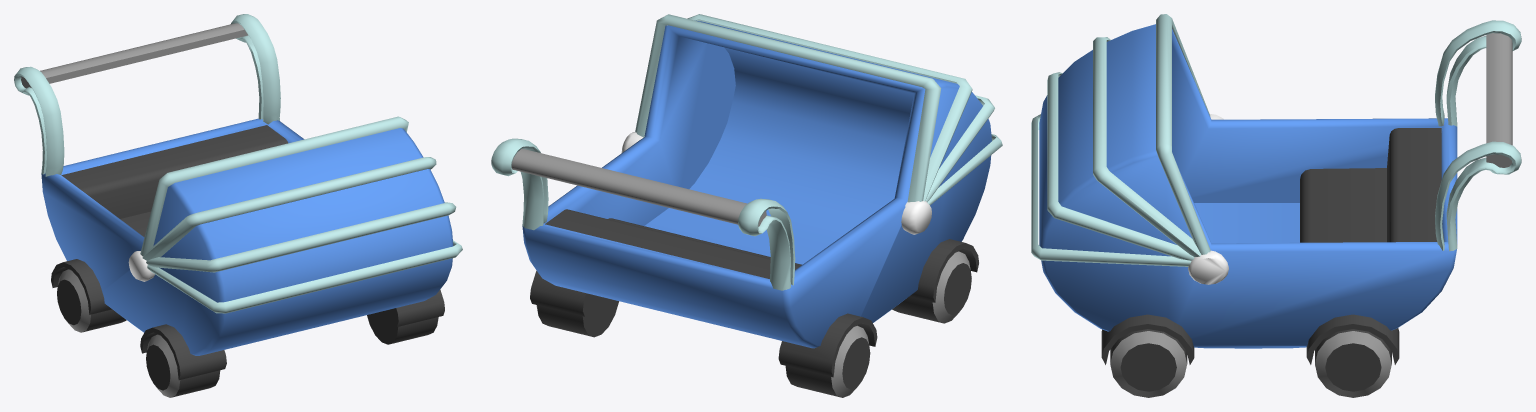
Rendered from Cart_6.fbx.
The picture shows the model from 3 angles, left to right: view 1: azimuth 30°, elevation 25°; view 2: azimuth 150°, elevation 25°; view 3: azimuth 270°, elevation 25°; orthographic projection. The views are drawn at different scales.
Visible parts, largest first — view 1: Cube.002; view 2: Cube.002; view 3: Cube.002.
Part boxes in pixels (box(x1,y1,x2,y2)): Cube.002: box(14, 14, 462, 397); Cube.002: box(491, 14, 1002, 397); Cube.002: box(1031, 14, 1521, 397).
Bounding box in the file's own units: 196 × 149 × 269.
